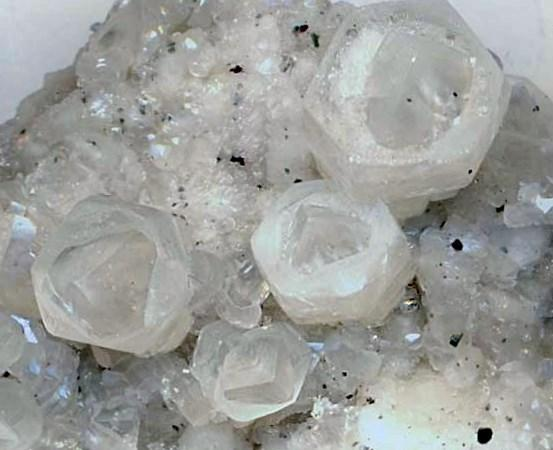calcite: (0, 1, 553, 446)
